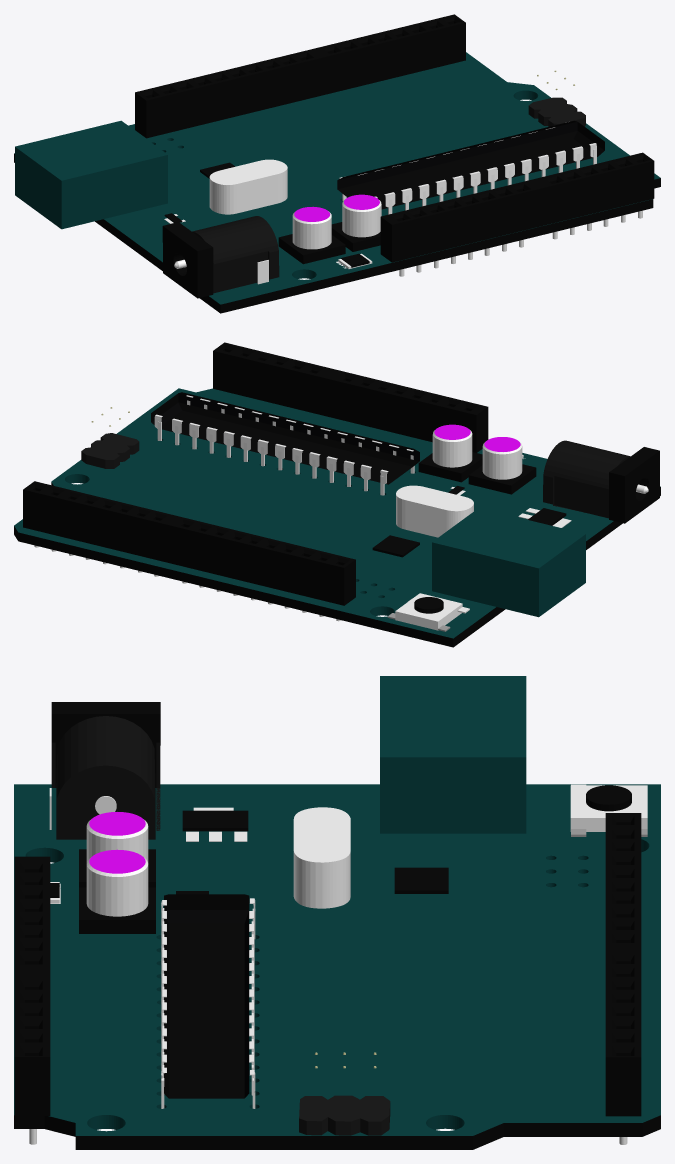
Rendered from arduino.glb.
3 views of the same model, one above another, from view 1: azimuth 30°, elevation 25°; view 2: azimuth 150°, elevation 25°; view 3: azimuth 270°, elevation 25° (orthographic). The views are drawn at different scales.
Visible parts, largest first — view 1: arduino; view 2: arduino; view 3: arduino.
Boxes of the visible parts, x1,y1,x2,y2 form: arduino: (14,14,660,313); arduino: (14,342,660,647); arduino: (14,676,660,1149).
Bounding box in the file's own units: 0.0749 × 0.00995 × 0.0533.
25 materials, 3 textured.
